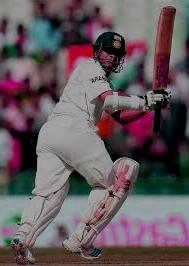batsman: (19, 6, 161, 266)
